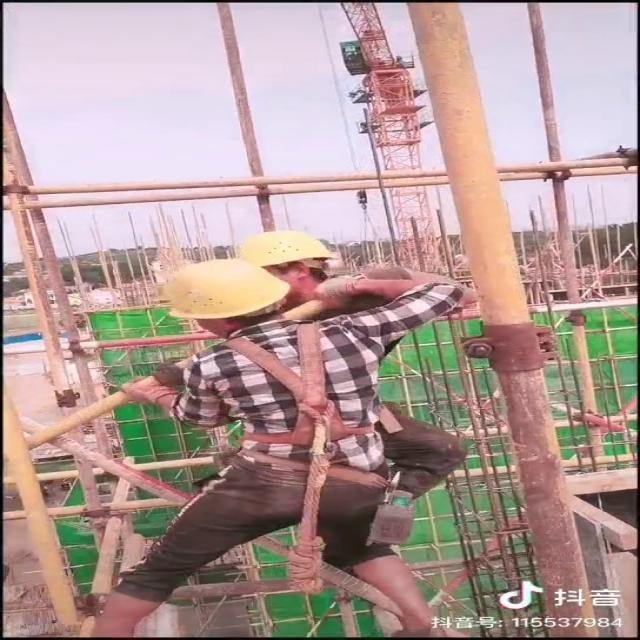Arnes_seguridad: (199, 319, 388, 487)
